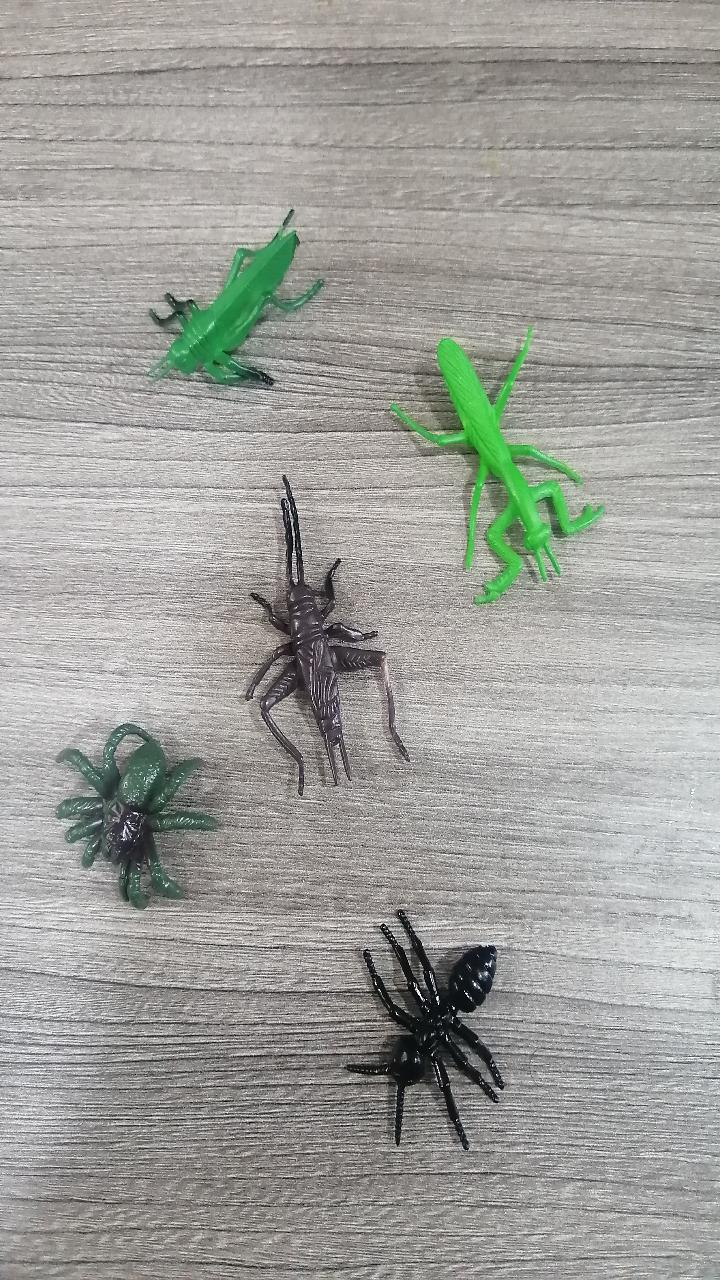intruso: (360, 306, 623, 614), (223, 445, 424, 802), (317, 857, 546, 1166), (109, 189, 344, 426), (24, 691, 229, 923)
